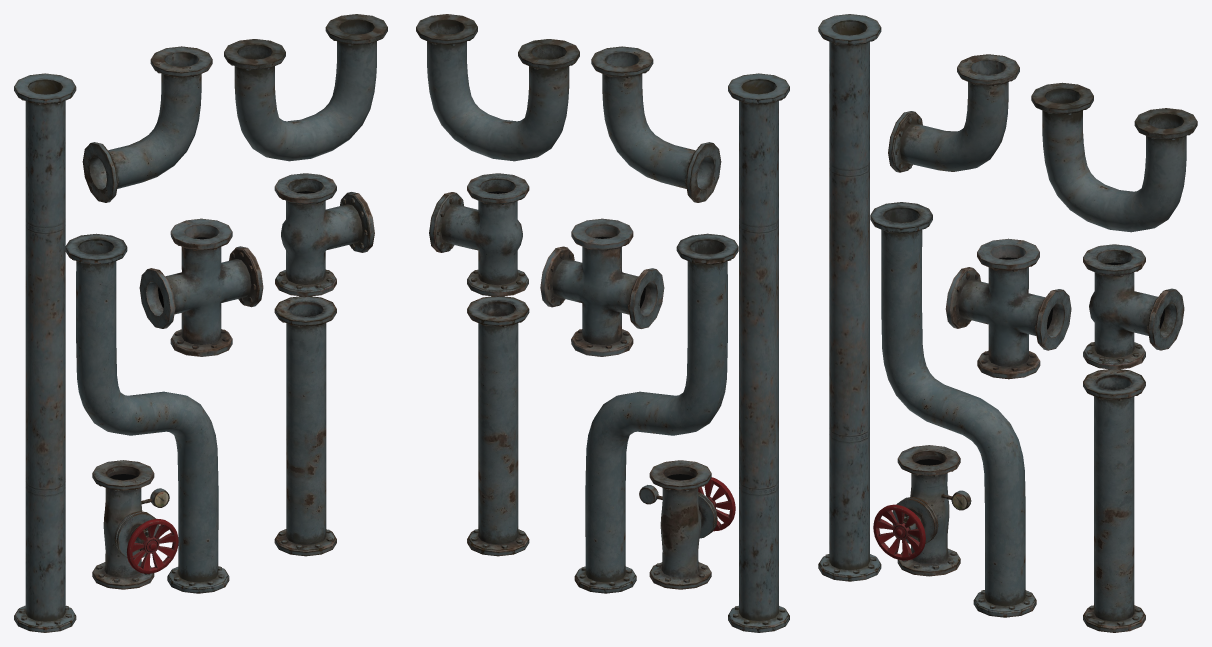
The model's file is modular_industrial_pipes_01.gltf.
3 views of the same model, side by side, from view 1: azimuth 30°, elevation 25°; view 2: azimuth 150°, elevation 25°; view 3: azimuth 330°, elevation 25° (orthographic).
Size of the model in its own units: 1.4 by 1.95 by 0.3076.
Materials: 2 (2 with a texture image).
